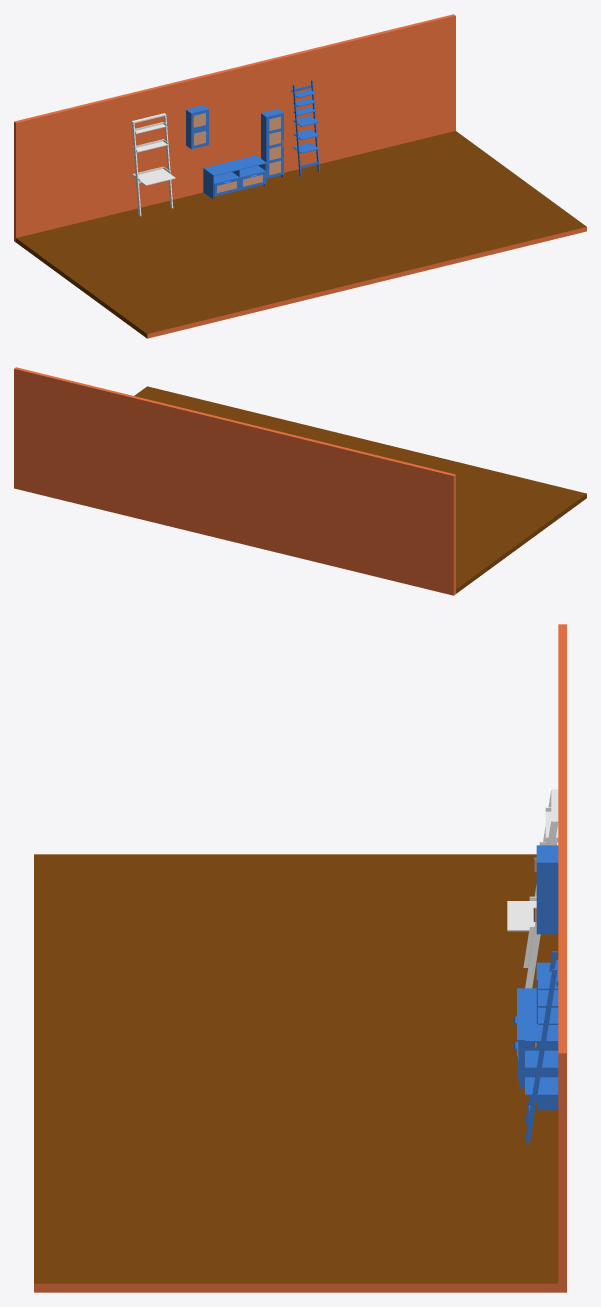
The model's file is living room_furniture.glb.
3 views of the same model, one above another, from view 1: azimuth 30°, elevation 25°; view 2: azimuth 150°, elevation 25°; view 3: azimuth 270°, elevation 25° (orthographic). The views are drawn at different scales.
Parts seen in each view (by area): view 1: Plane, mesa-tv, escritorio-salon, stand-alto, stand-blanco, stand-cuadro.001, stand-cuadro; view 2: Plane; view 3: Plane, stand-blanco, escritorio-salon, mesa-tv, stand-cuadro.001, stand-alto, stand-cuadro.
Part boxes in pixels (box(x1,y1,x2,y2)): Plane: box(14, 14, 586, 338); mesa-tv: box(203, 155, 266, 199); escritorio-salon: box(131, 113, 175, 216); stand-alto: box(261, 109, 283, 181); stand-blanco: box(291, 80, 319, 176); stand-cuadro.001: box(186, 105, 208, 131); stand-cuadro: box(186, 127, 208, 149); Plane: box(14, 367, 586, 595); Plane: box(34, 624, 566, 1292); stand-blanco: box(525, 951, 558, 1142); escritorio-salon: box(507, 789, 558, 988); mesa-tv: box(514, 988, 536, 1088); stand-cuadro.001: box(533, 845, 558, 898); stand-alto: box(533, 962, 558, 1110); stand-cuadro: box(533, 898, 558, 934).
Size of the model in its own units: 10 by 2.6 by 5.25.
